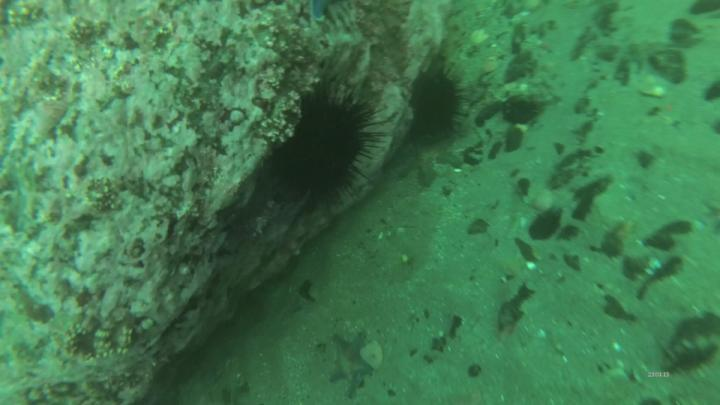echinus: (279, 101, 364, 190), (416, 78, 463, 136)
scallop: (642, 76, 669, 100)
starfish: (329, 337, 374, 398)
